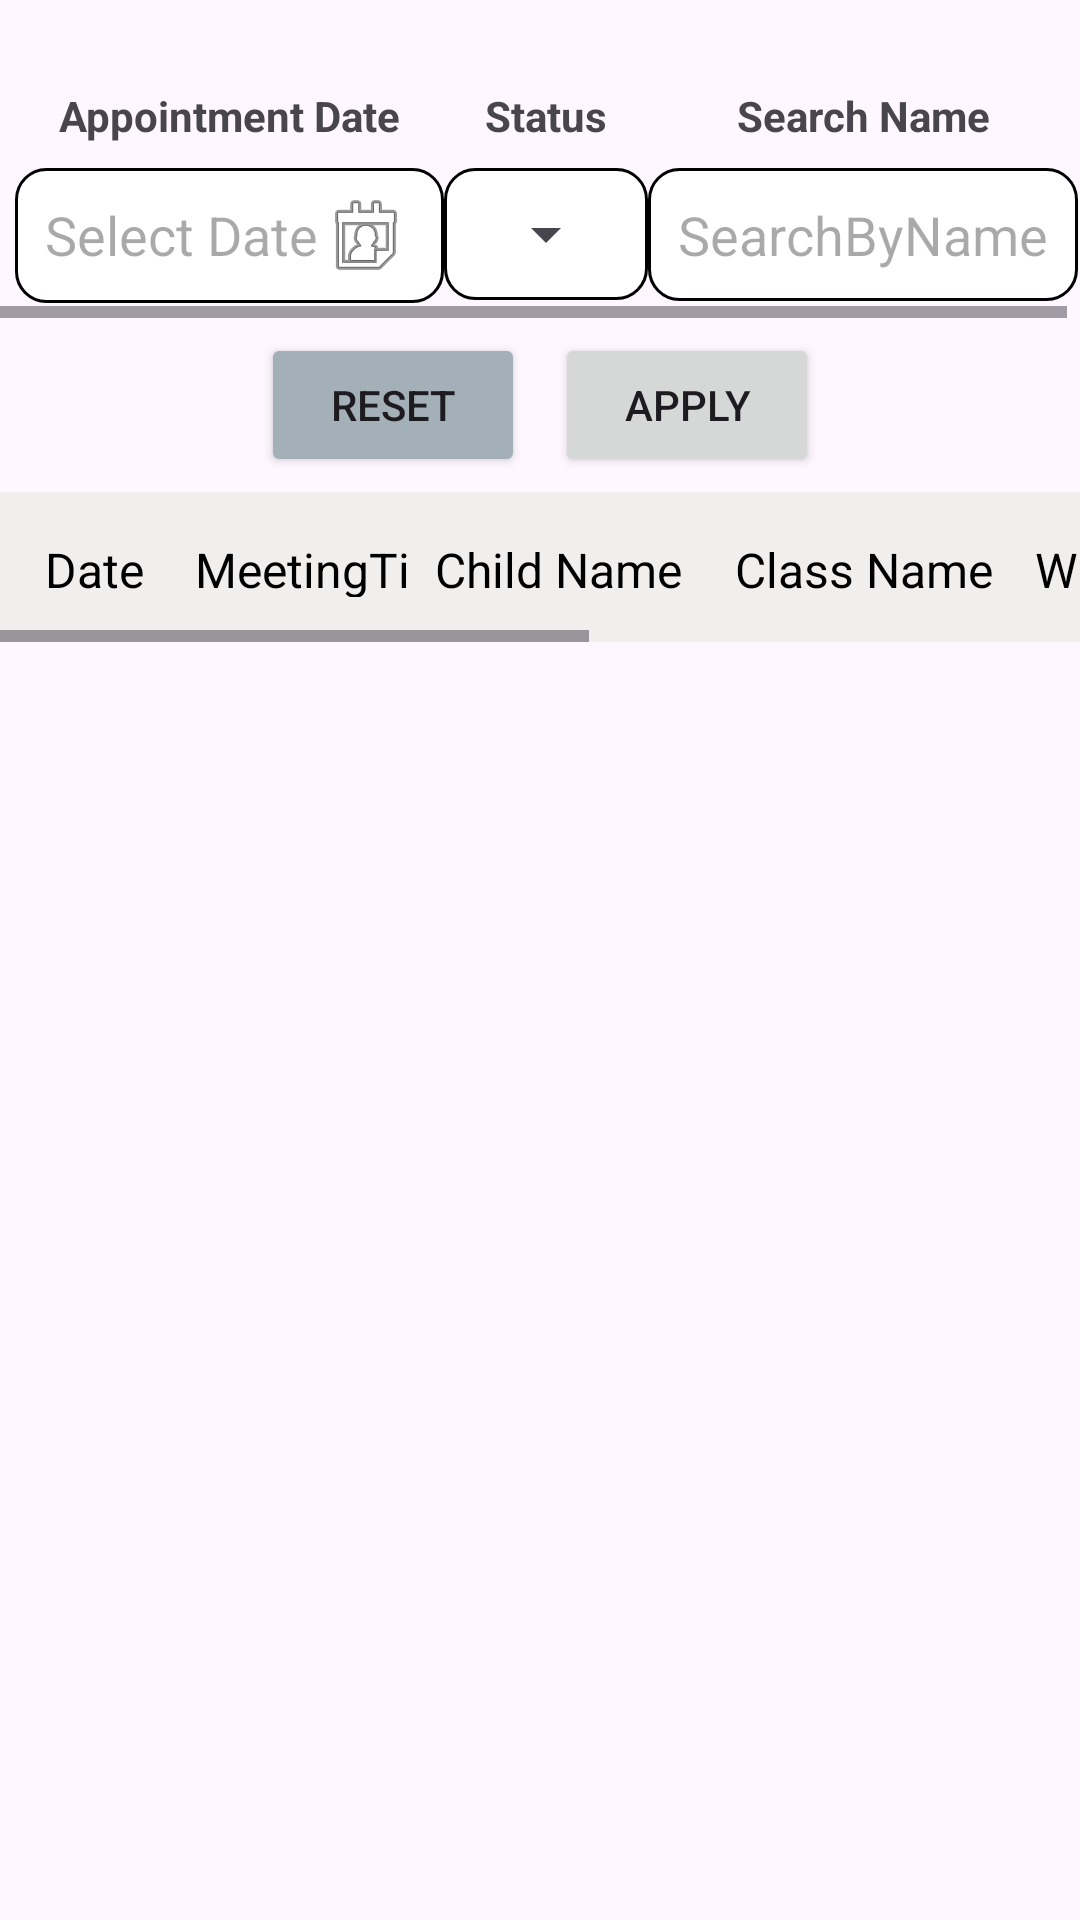

Icon bounding boxes for this 1080 × 1920 phone screenshot, format (x1, y1, x2, y2):
Open Calendar: (335, 200, 397, 270)
